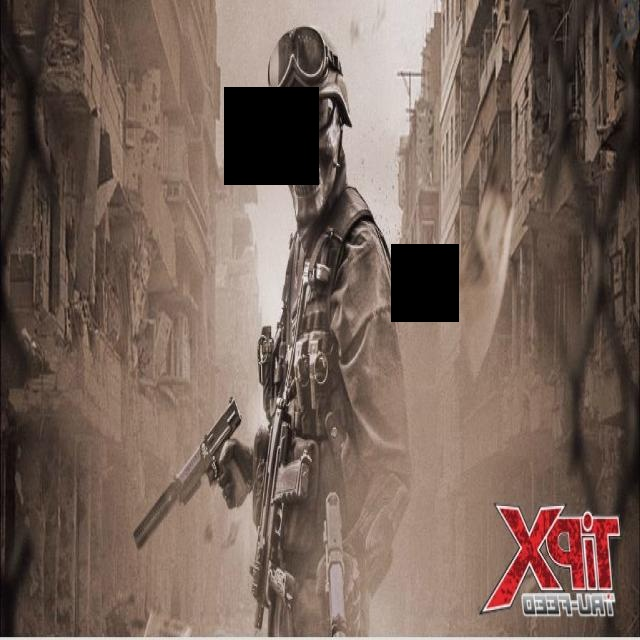gun: (126, 383, 253, 580), (243, 397, 311, 617), (314, 477, 355, 634)
